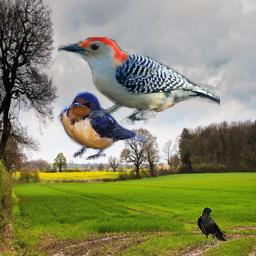Crow: (197, 207, 227, 245)
Swallow: (57, 91, 148, 160)
Woodpecker: (58, 37, 220, 125)
